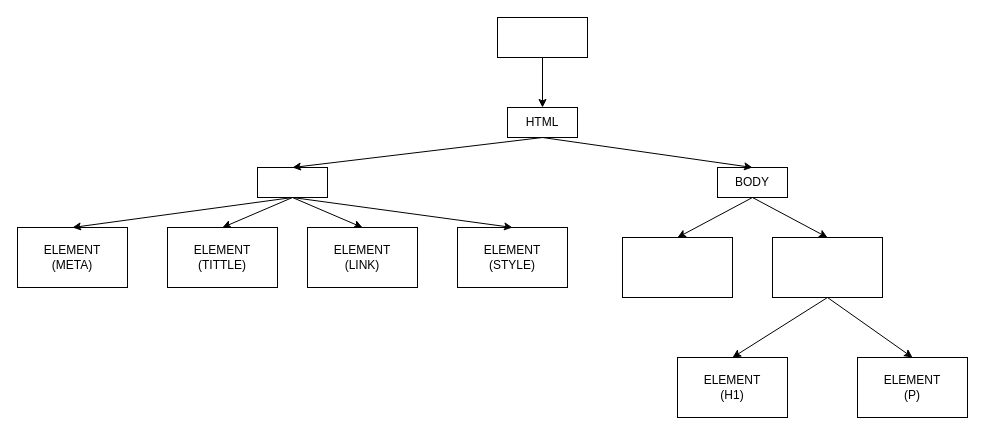
The diagram is 985 pixels wide and 435 high, and some of its shapes have lost their labels. The shapes that lost their labels are listed below. From the top down, each one's centre as x and y in pixels, then its label:
the point at 542,37: DOCUMENT
the point at 292,182: HEAD
the point at 677,267: ELEMENT (IMG)
the point at 827,267: ELEMENT (DIV)
